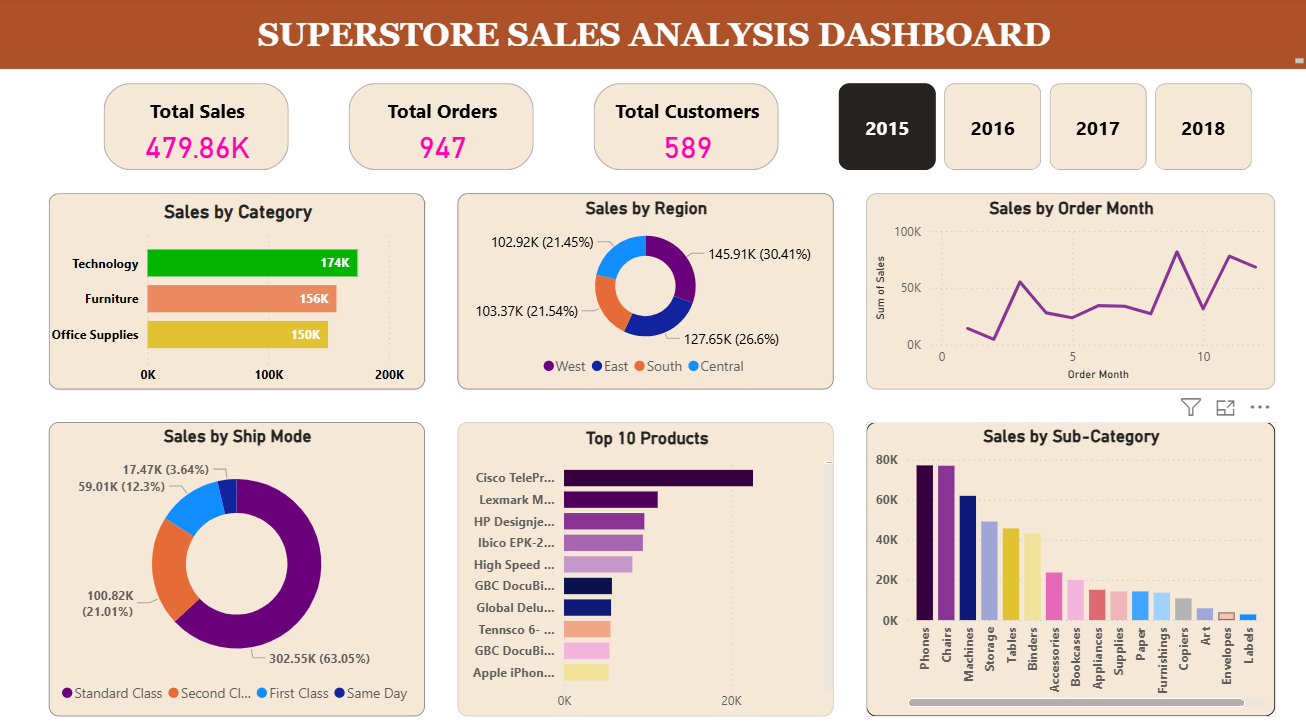

This screenshot's page, from the dashboard's own definition file:
{"tool":"powerbi","page":{"name":"Page 1","canvas":[1280,720],"ordinal":0},"visuals":[{"type":"advancedSlicerVisual","fields":{"Values":["sales_modified.Order Year"]},"box":[816,80,416,96],"z":0},{"type":"cardVisual","fields":{"Data":["Sum(sales_modified.Sales)"]},"box":[96,80,192,96],"z":1000},{"type":"textbox","title":"SUPERSTORE SALES ANALYSIS DASHBOARD","box":[0,0,1280,70],"z":2000},{"type":"cardVisual","fields":{"Data":["sales_modified.Total Orders"]},"box":[336,80,192,96],"z":2001},{"type":"cardVisual","fields":{"Data":["sales_modified.Total Customers"]},"box":[576,80,192,96],"z":2002},{"type":"barChart","title":"Sales by Category","fields":{"Category":["sales_modified.Category"],"Y":["Sum(sales_modified.Sales)"]},"box":[48,192,368,192],"z":2003},{"type":"donutChart","title":"Sales by Region","fields":{"Category":["sales_modified.Region"],"Y":["Sum(sales_modified.Sales)"]},"box":[448,192,368,192],"z":2004},{"type":"donutChart","title":"Sales by Ship Mode","fields":{"Category":["sales_modified.Ship Mode"],"Y":["Sum(sales_modified.Sales)"]},"box":[48,416,368,288],"z":2005},{"type":"barChart","title":"Top 10 Products","fields":{"Category":["sales_modified.Product Name"],"Y":["Sum(sales_modified.Sales)"]},"box":[448,416,368,288],"z":2006},{"type":"columnChart","title":"Sales by Sub-Category","fields":{"Category":["sales_modified.Sub-Category"],"Y":["Sum(sales_modified.Sales)"]},"box":[848,416,400,288],"z":2007},{"type":"lineChart","title":"Sales by Order Month","fields":{"Category":["sales_modified.Order Month"],"Y":["Sum(sales_modified.Sales)"]},"box":[848,192,400,192],"z":2008}]}

Visuals, with their boxes in screenshot pixels (x1, y1, x2, y2), scaled from the page's 1280x720 canvas onto the 1306x727 screenshot:
advancedSlicerVisual - sales_modified.Order Year: rect(833, 81, 1257, 178)
cardVisual - Sum(sales_modified.Sales): rect(98, 81, 294, 178)
"SUPERSTORE SALES ANALYSIS DASHBOARD" textbox: rect(0, 0, 1305, 71)
cardVisual - sales_modified.Total Orders: rect(343, 81, 539, 178)
cardVisual - sales_modified.Total Customers: rect(588, 81, 784, 178)
"Sales by Category" barChart: rect(49, 194, 424, 388)
"Sales by Region" donutChart: rect(457, 194, 833, 388)
"Sales by Ship Mode" donutChart: rect(49, 420, 424, 711)
"Top 10 Products" barChart: rect(457, 420, 833, 711)
"Sales by Sub-Category" columnChart: rect(865, 420, 1273, 711)
"Sales by Order Month" lineChart: rect(865, 194, 1273, 388)
